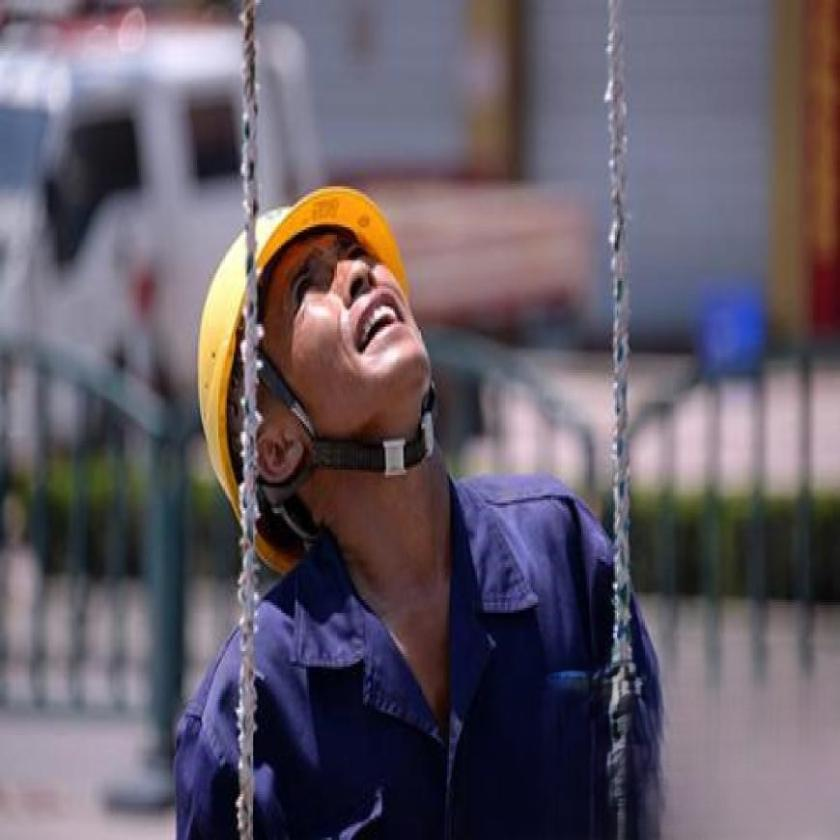Con_casco: (180, 184, 460, 582)
